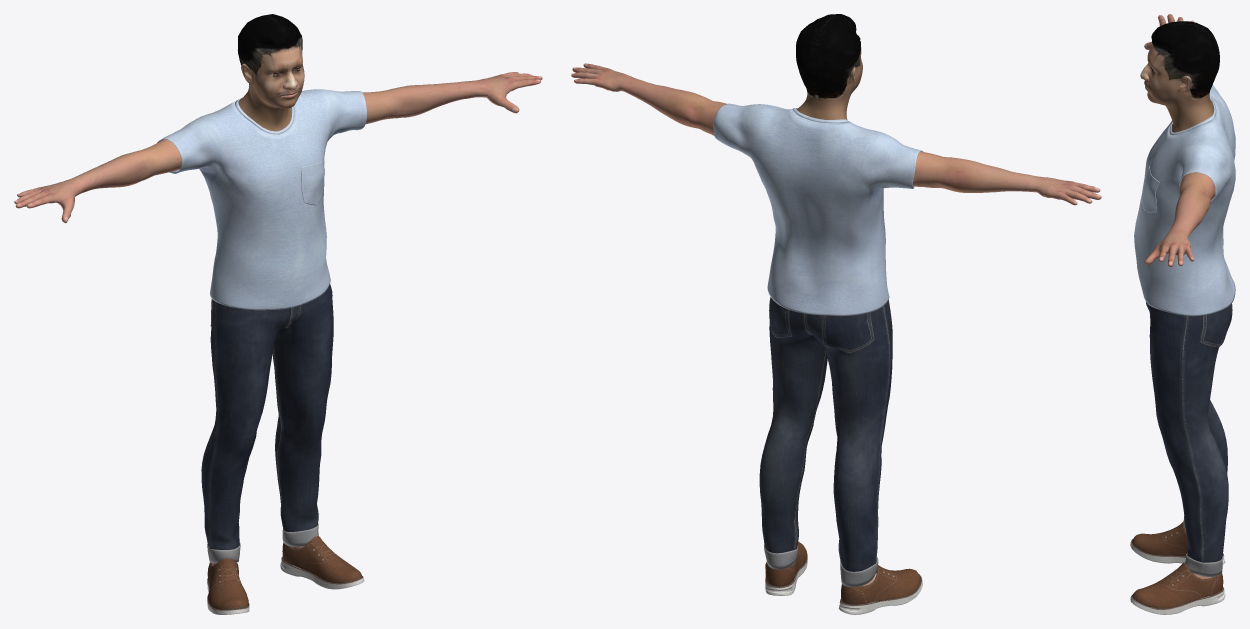
The model's file is Maxrolled.fbx.
3 views of the same model, side by side, from view 1: azimuth 30°, elevation 25°; view 2: azimuth 150°, elevation 25°; view 3: azimuth 270°, elevation 25° (orthographic). The views are drawn at different scales.
Visible parts, largest first — view 1: outfit, AvatarBody, C_2; view 2: outfit, AvatarBody, C_2; view 3: outfit, C_2, AvatarBody.
Boxes of the visible parts, x1,y1,x2,y2 form: outfit: (157,89,366,614); AvatarBody: (14,72,542,565); C_2: (237,14,304,131); outfit: (713,103,923,614); AvatarBody: (571,63,1101,585); C_2: (796,14,862,119); outfit: (1130,85,1235,614); C_2: (1140,21,1219,132); AvatarBody: (1144,14,1215,578).
Bounding box in the file's own units: 176 × 182 × 31.3.
Materials: 8 (7 with a texture image).
